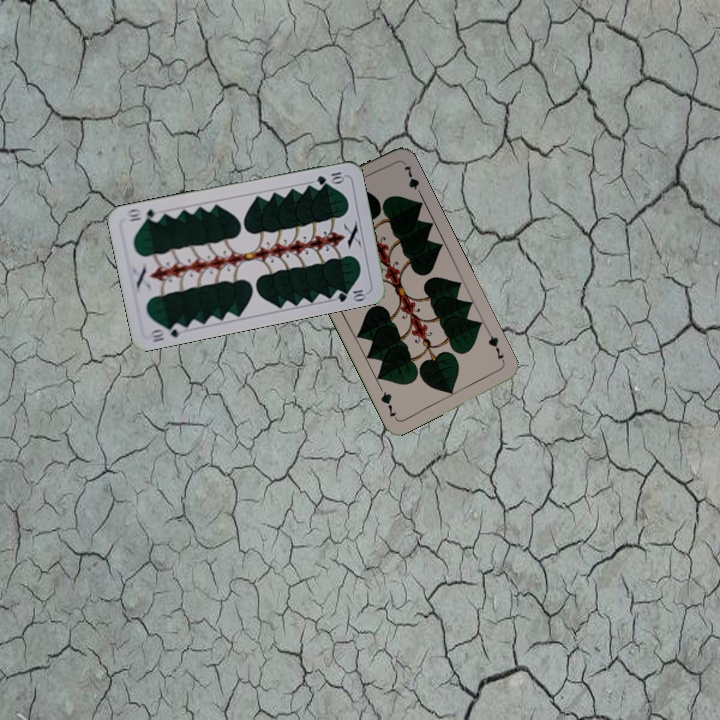G10: (145, 319, 187, 345), (312, 168, 347, 187)
G7: (484, 328, 507, 366)
